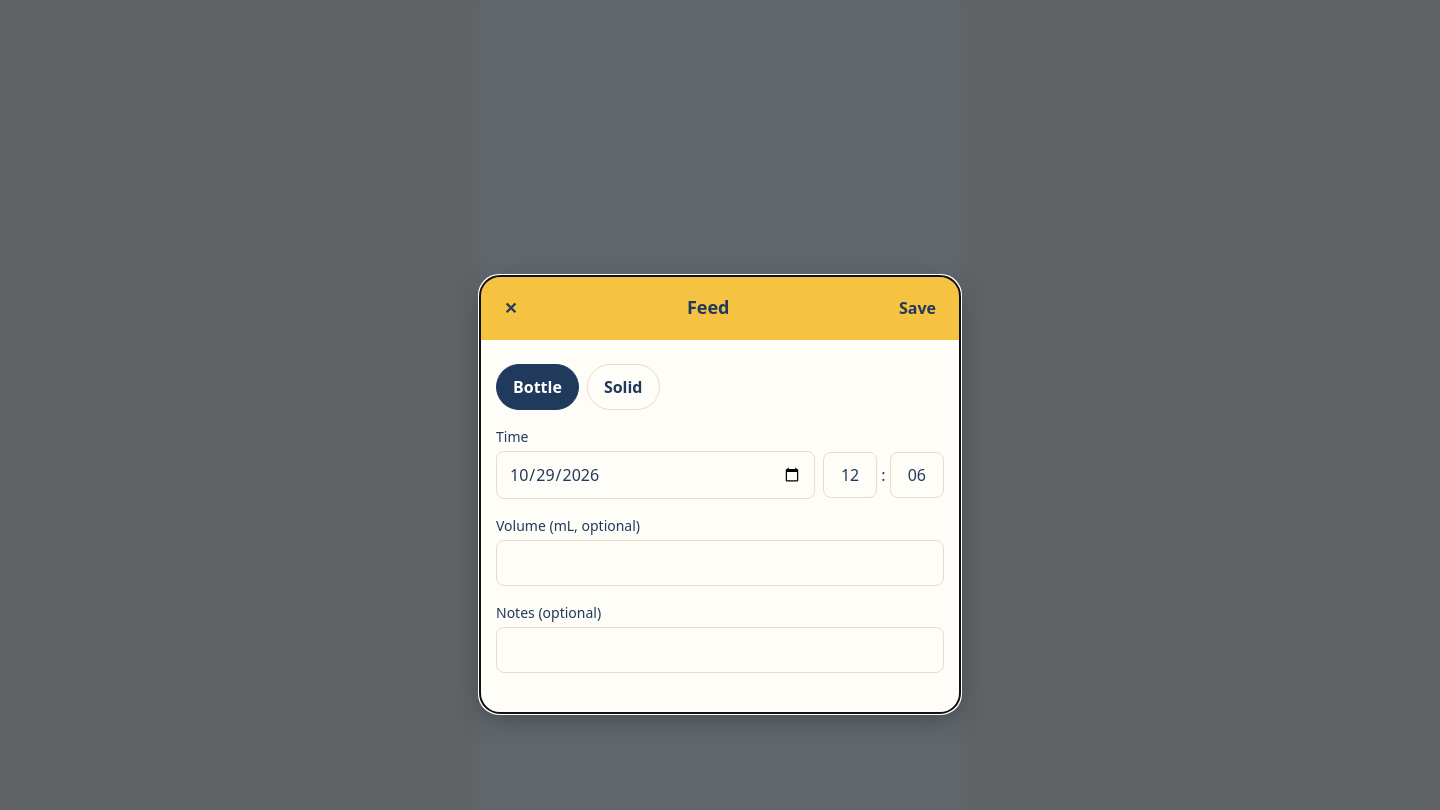
Test: FeedingForm › refuses a volume of 0 with a message under the field
In the number field labelled "Volume (mL, optional)": (720, 563) left=496, top=540, right=944, bottom=586, type "0"
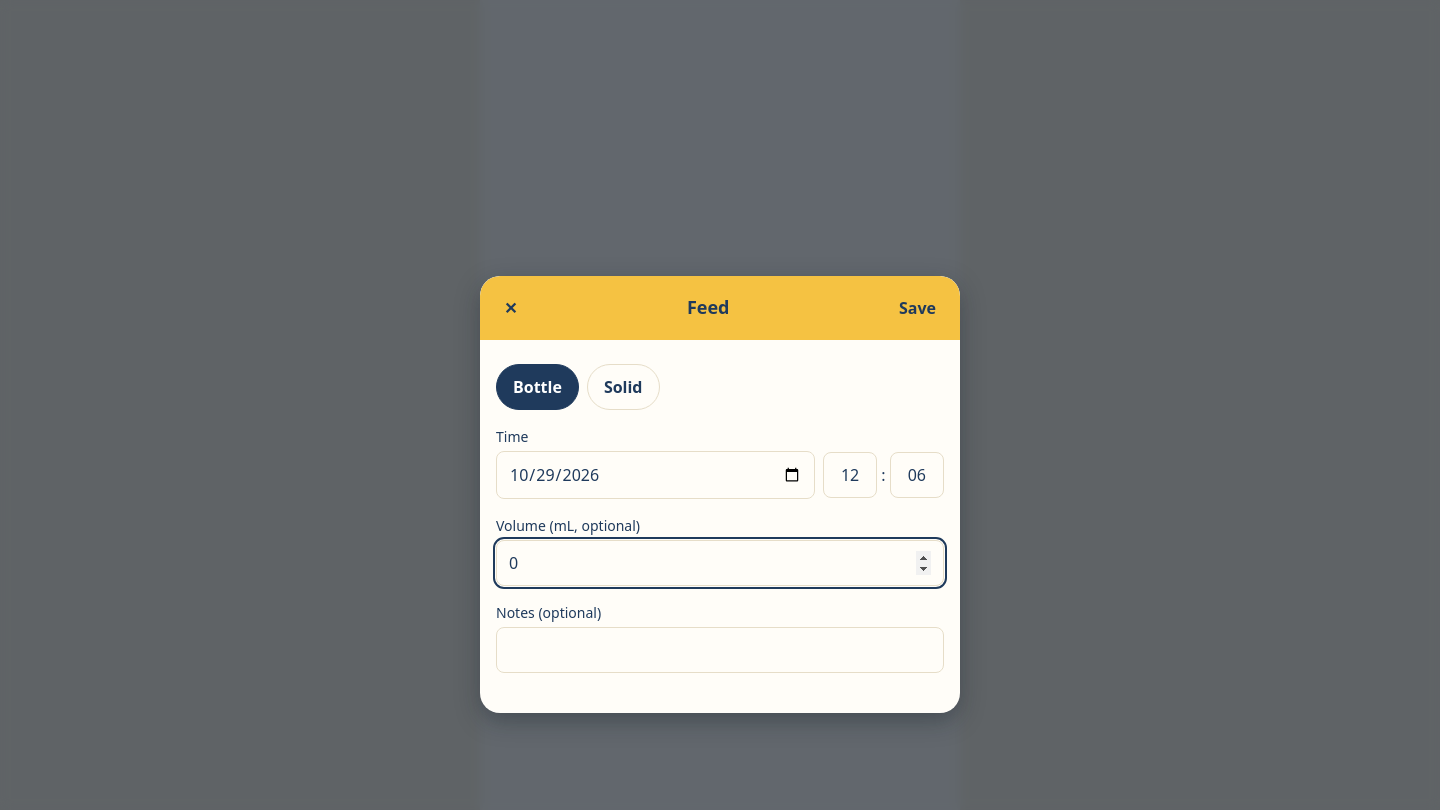
Click the button "Save": (918, 308) left=891, top=292, right=944, bottom=324
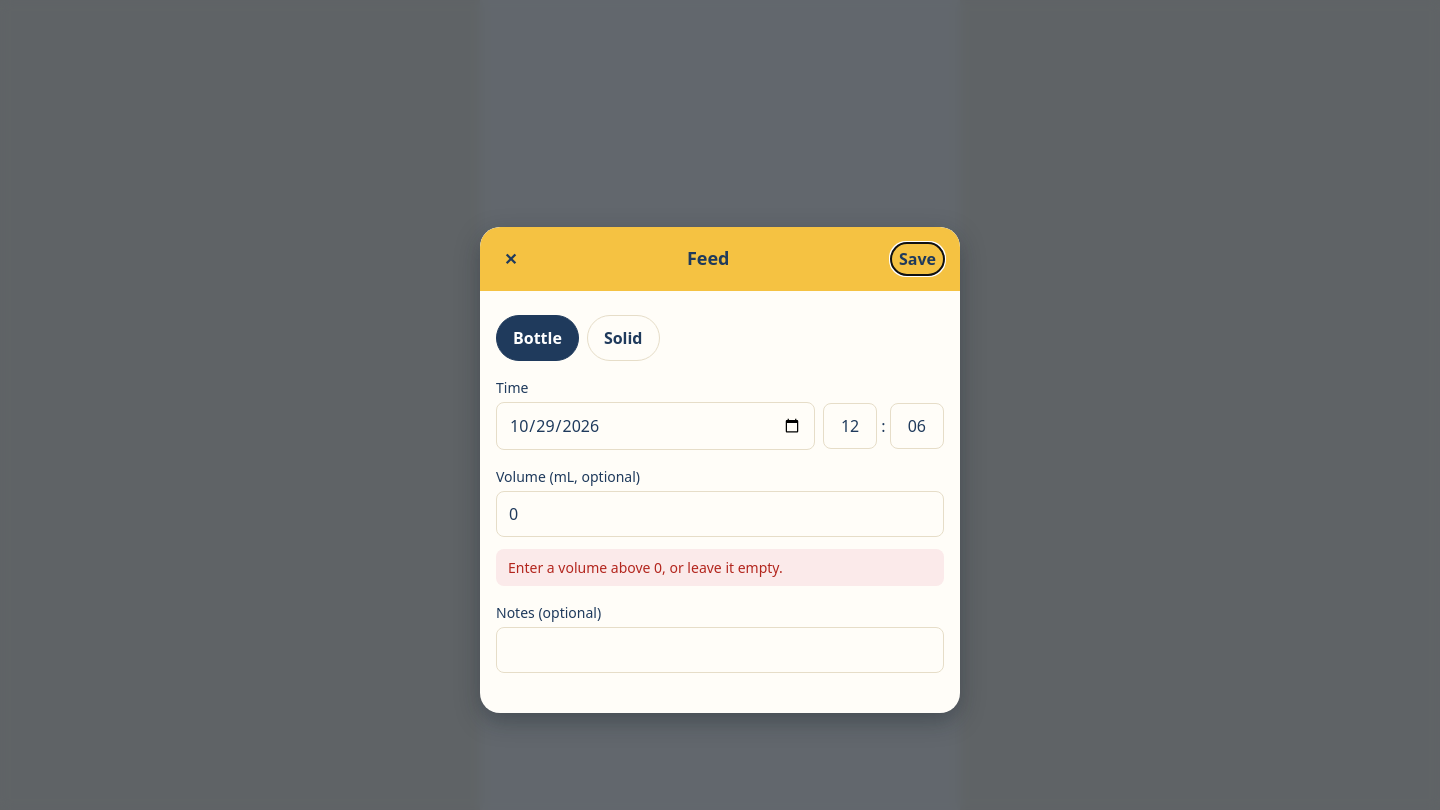
Result: the message shows "Enter a volume above 0" at left=508, top=558, right=783, bottom=577
